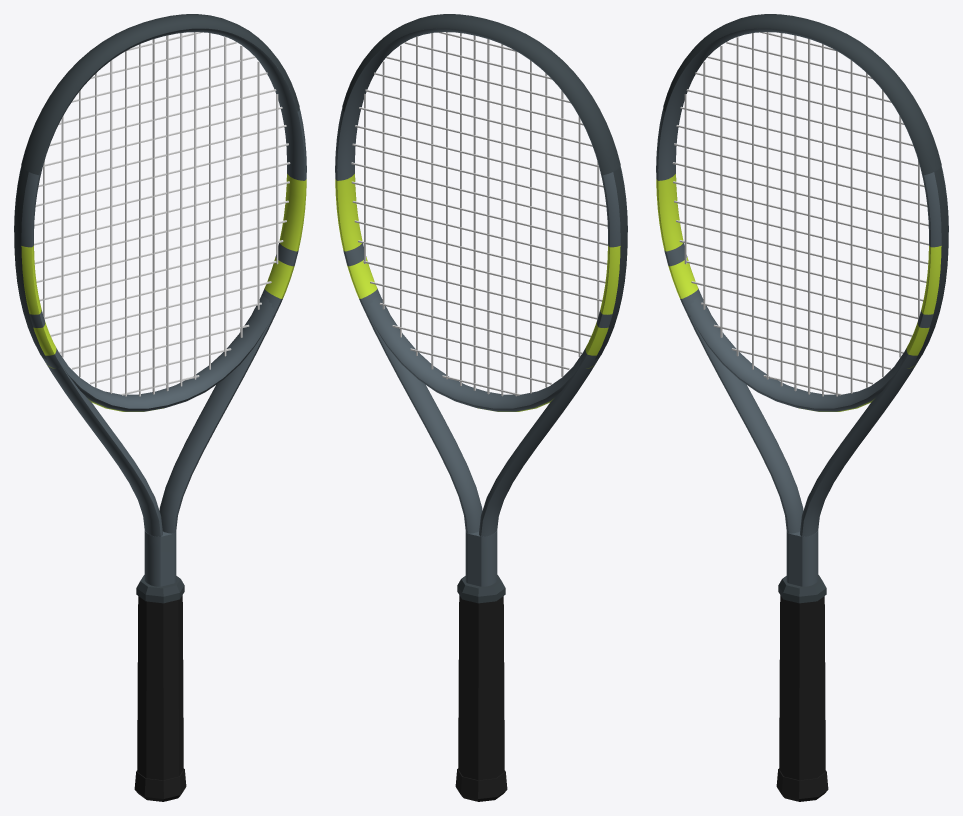
The model's file is babolat-pure-aero-plus-2026.glb.
3 views of the same model, side by side, from view 1: azimuth 30°, elevation 25°; view 2: azimuth 150°, elevation 25°; view 3: azimuth 330°, elevation 25° (orthographic).
Parts seen in each view (by area): view 1: frame, strings_mains, strings_crosses, grip, bumper, grommets, butt_cap, collar; view 2: frame, strings_mains, strings_crosses, grip, bumper, grommets, butt_cap, collar; view 3: frame, strings_mains, strings_crosses, grip, bumper, grommets, butt_cap, collar.
Boxes of the visible parts, box(x1,y1,x2,y2) form: frame: box(14, 28, 306, 586); strings_mains: box(43, 32, 278, 396); strings_crosses: box(34, 32, 290, 395); grip: box(137, 595, 183, 780); bumper: box(21, 14, 299, 175); grommets: box(14, 167, 46, 359); butt_cap: box(134, 768, 186, 801); collar: box(136, 575, 184, 603); frame: box(335, 28, 627, 586); strings_mains: box(364, 32, 599, 396); strings_crosses: box(351, 32, 607, 395); grip: box(458, 595, 504, 780); bumper: box(342, 14, 620, 175); grommets: box(595, 167, 627, 359); butt_cap: box(455, 768, 507, 801); collar: box(457, 575, 505, 603); frame: box(656, 28, 948, 586); strings_mains: box(684, 32, 919, 396); strings_crosses: box(672, 32, 928, 395); grip: box(779, 595, 825, 780); bumper: box(663, 14, 941, 175); grommets: box(916, 167, 948, 359); butt_cap: box(776, 768, 828, 801); collar: box(778, 575, 826, 603).
Bounding box in the file's own units: 0.2718 × 0.6988 × 0.0396.
